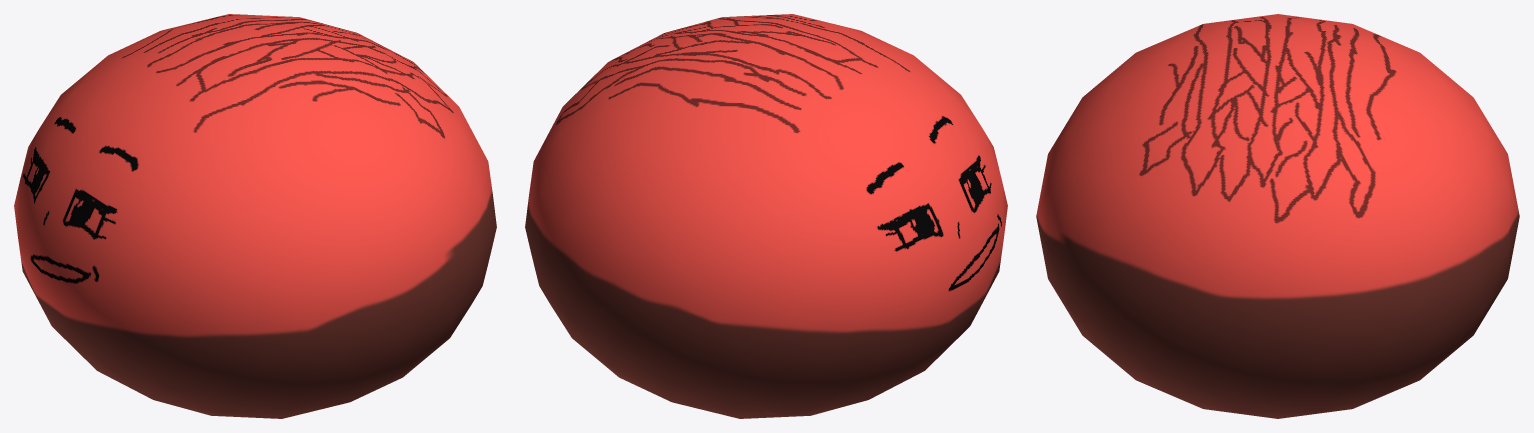
File: Ember.glb
3 views of the same model, side by side, from view 1: azimuth 30°, elevation 25°; view 2: azimuth 150°, elevation 25°; view 3: azimuth 270°, elevation 25° (orthographic).
Visible parts, largest first — view 1: Icosphere; view 2: Icosphere; view 3: Icosphere.
Boxes of the visible parts, <box> form: Icosphere: <box>14,14,496,418</box>; Icosphere: <box>525,14,1007,418</box>; Icosphere: <box>1036,14,1519,418</box>.
Size of the model in its own units: 1 by 0.8 by 1.
1 material, 1 textured.
